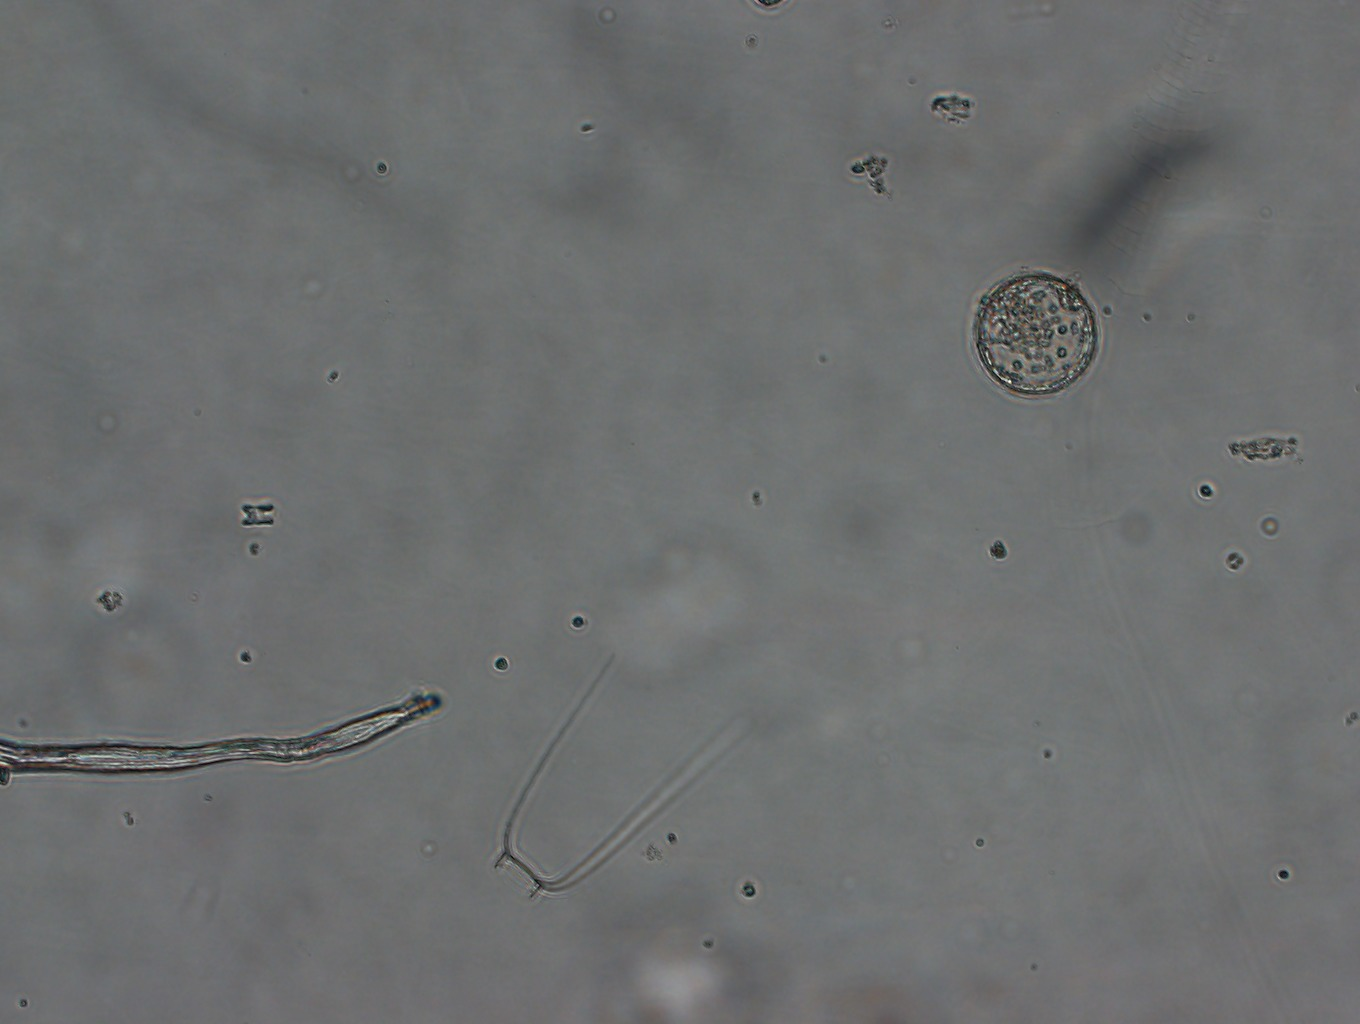chaetoceros: (469, 652, 794, 902)
coscinodiscus: (965, 265, 1110, 400)
